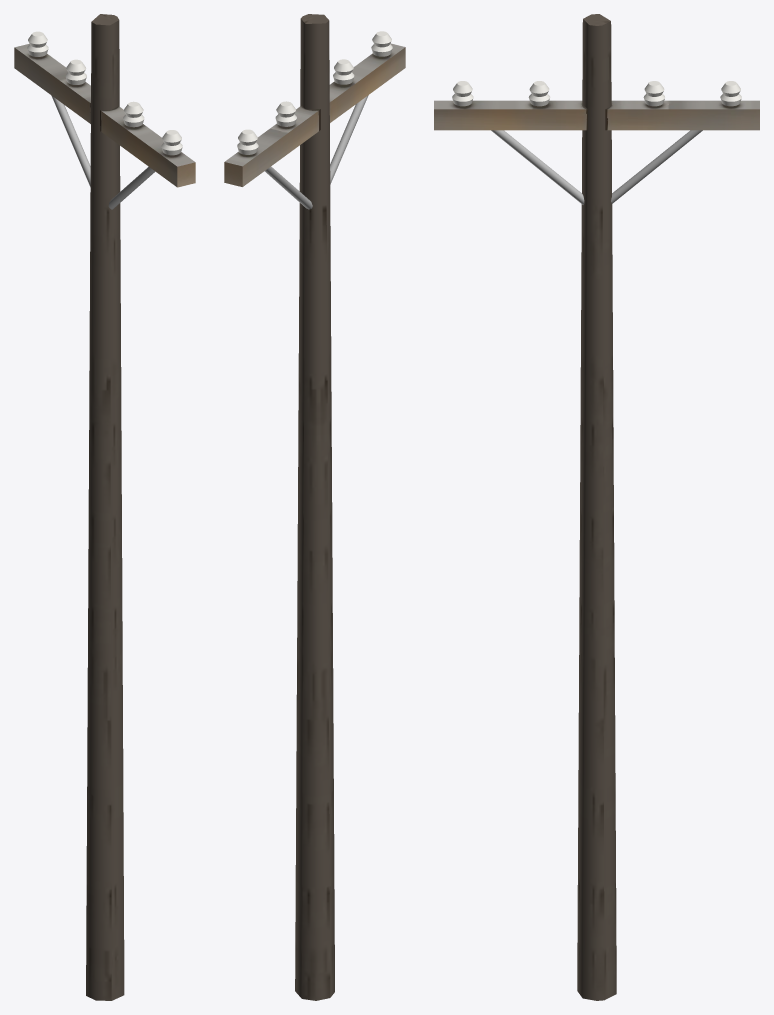
The model's file is pole.glb.
The picture shows the model from 3 angles, left to right: view 1: azimuth 30°, elevation 25°; view 2: azimuth 150°, elevation 25°; view 3: azimuth 270°, elevation 25°; orthographic projection.
Parts seen in each view (by area): view 1: pole; view 2: pole; view 3: pole.
Boxes of the visible parts, bbox=[...] form: pole: bbox=[14, 14, 195, 1000]; pole: bbox=[224, 14, 405, 1000]; pole: bbox=[434, 14, 759, 1000].
Size of the model in its own units: 0.2085 by 5.6 by 1.7.
4 materials, 3 textured.
